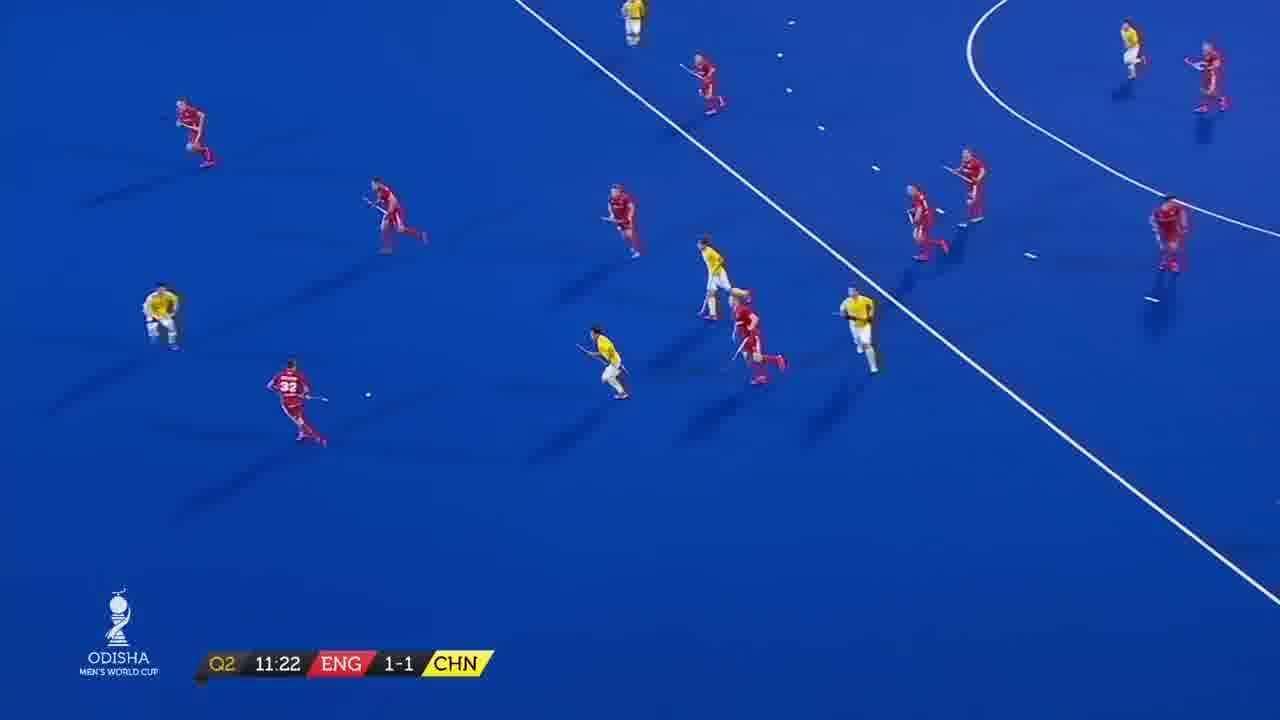ball: (360, 386, 375, 404)
